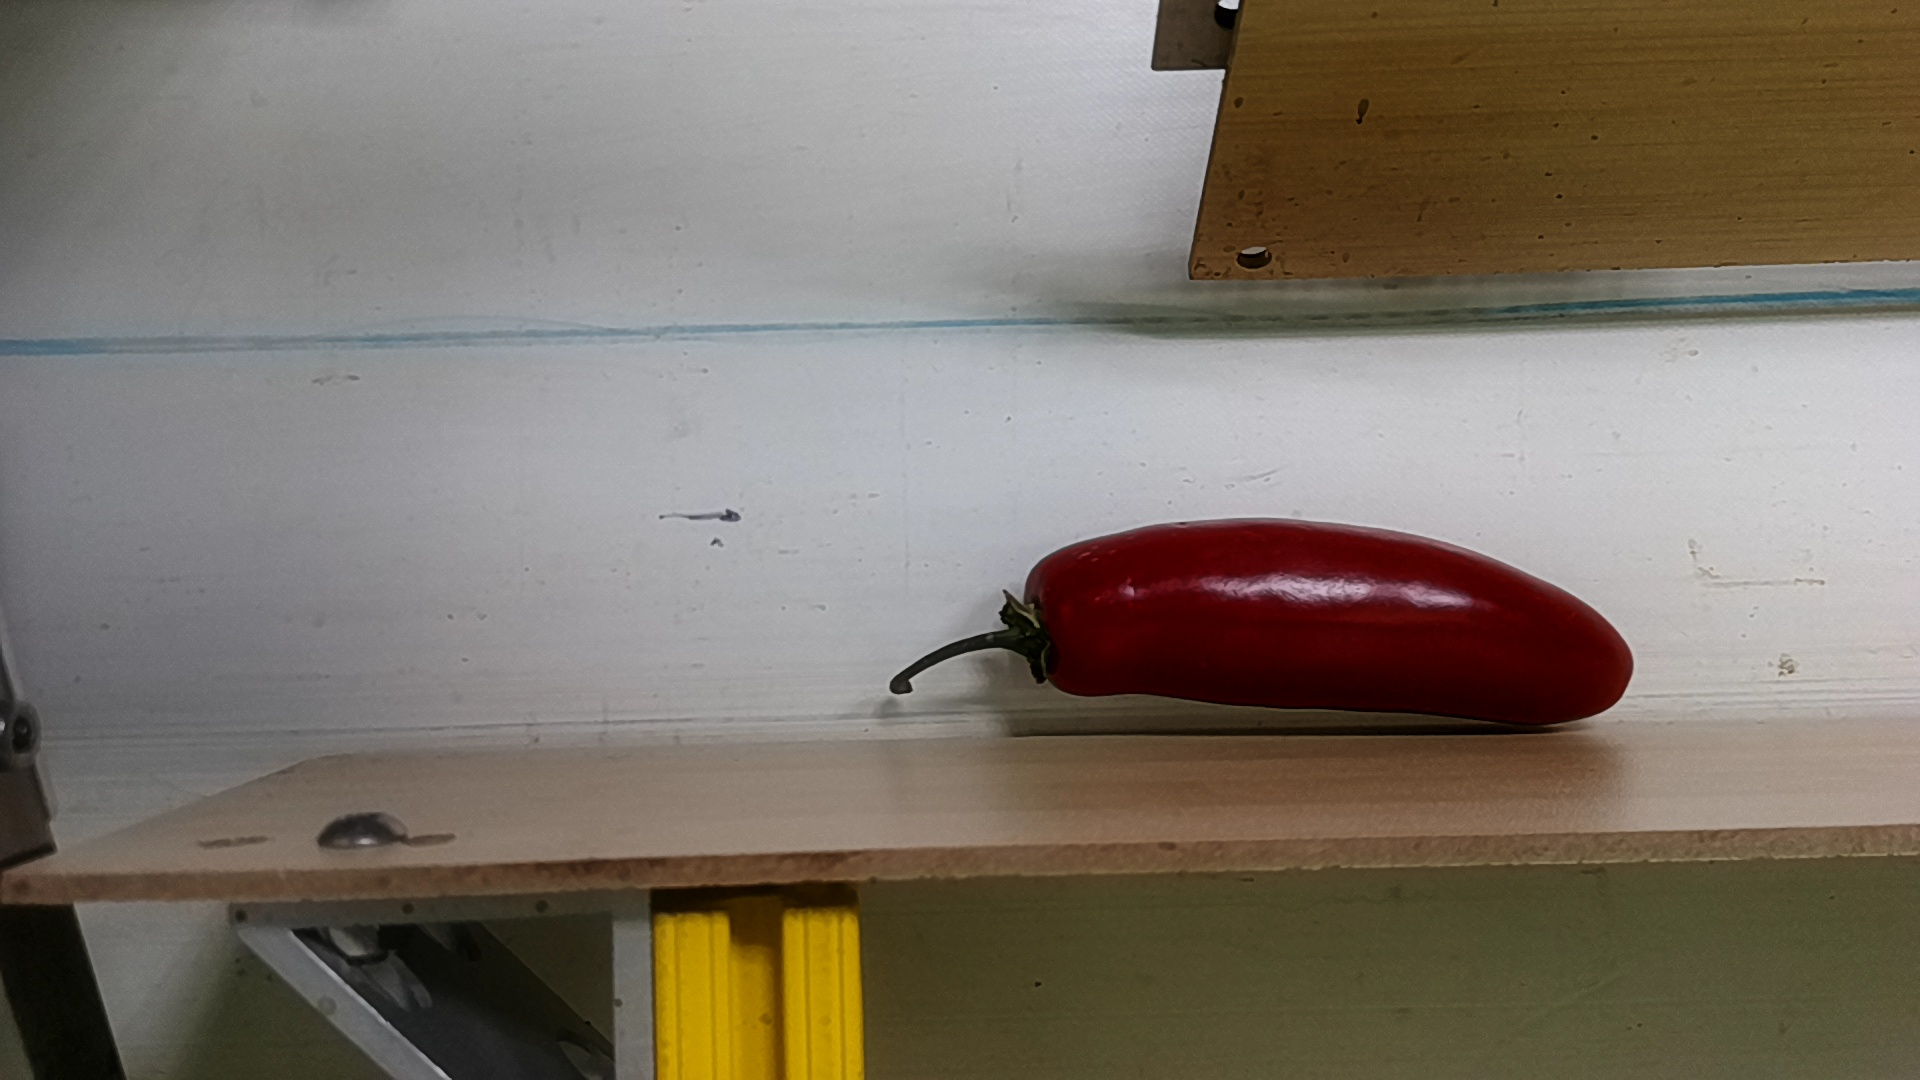Cut Point: (1004, 545, 1102, 702)
